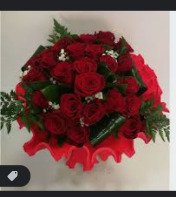RedRose: (43, 108, 73, 135), (74, 70, 106, 94), (51, 57, 74, 86)
